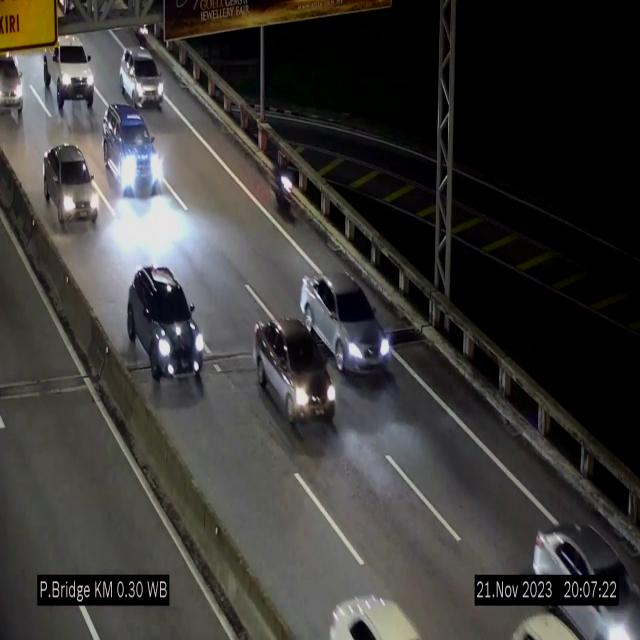Car: (530, 506, 640, 640), (249, 315, 341, 430), (128, 264, 205, 400), (300, 274, 391, 373), (101, 100, 159, 206), (43, 143, 97, 227), (44, 37, 92, 109), (120, 46, 164, 107), (0, 41, 25, 129)
Motorcycle: (270, 148, 296, 221)
